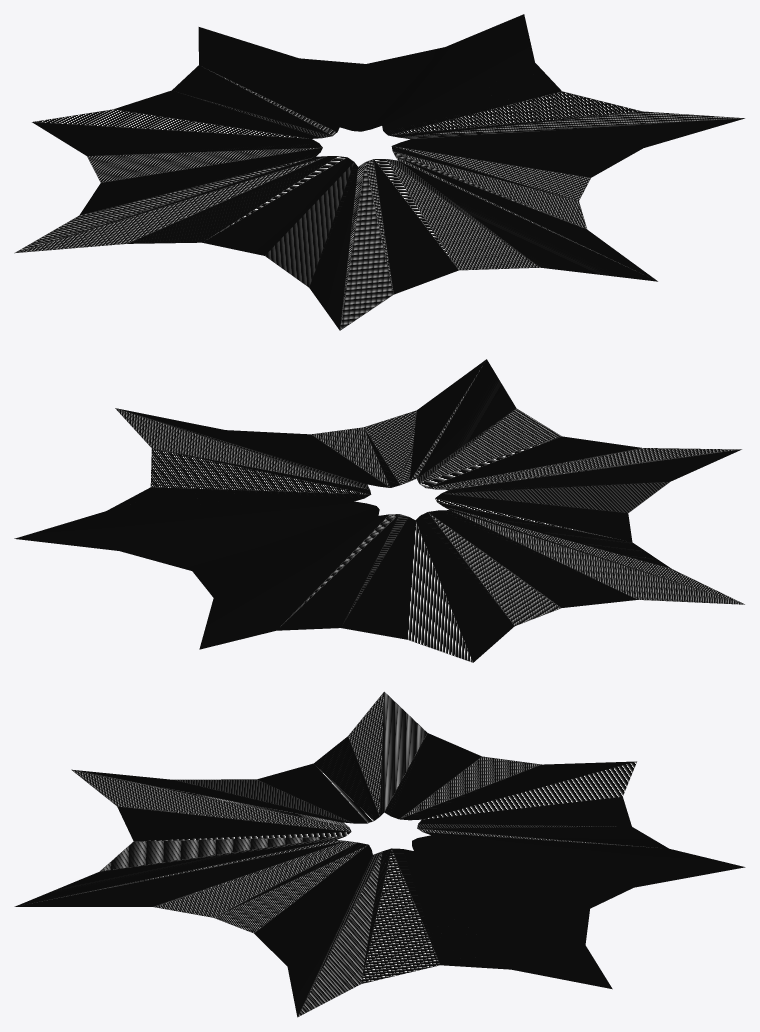
The model's file is 0193_XiaoZhiDeRenHeJiaWa_SkillA_Mesh_03.glb.
The picture shows the model from 3 angles, top to bottom: view 1: azimuth 30°, elevation 25°; view 2: azimuth 150°, elevation 25°; view 3: azimuth 270°, elevation 25°; orthographic projection. The views are drawn at different scales.
Size of the model in its own units: 2.2 by 0.0698 by 2.09.
Materials: 1 (1 with a texture image).
